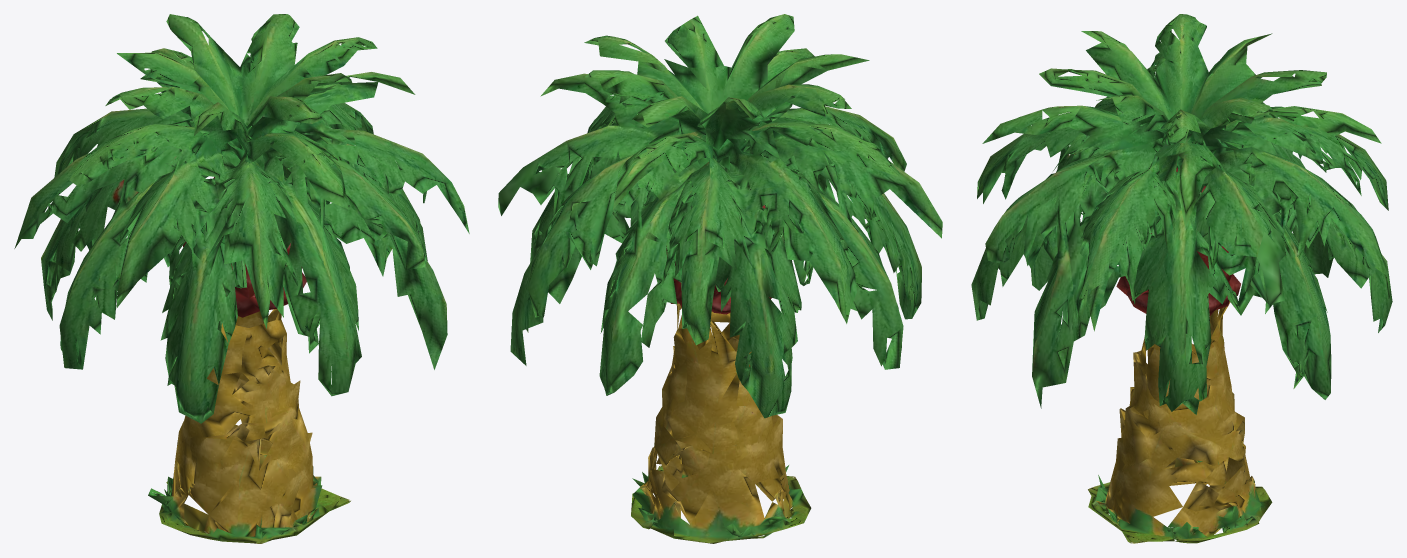
The model's file is oilpalm.glb.
3 views of the same model, side by side, from view 1: azimuth 30°, elevation 25°; view 2: azimuth 150°, elevation 25°; view 3: azimuth 270°, elevation 25° (orthographic).
Size of the model in its own units: 0.7884 by 0.918 by 0.7849.
1 material, 1 textured.
